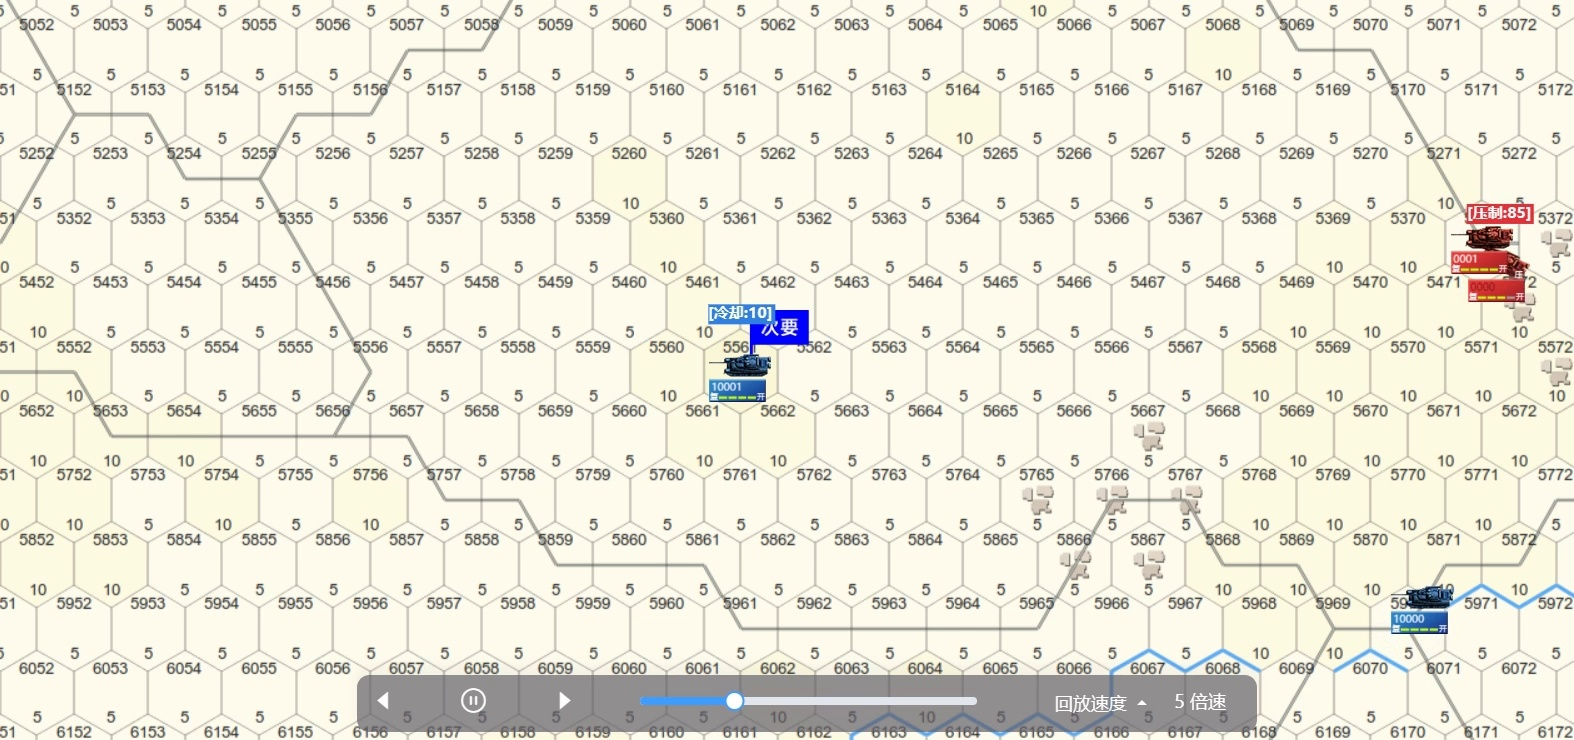blue_tank: (1395, 588, 1459, 636), (716, 356, 769, 401)
red_tank: (1456, 230, 1511, 271), (1476, 267, 1530, 300)
